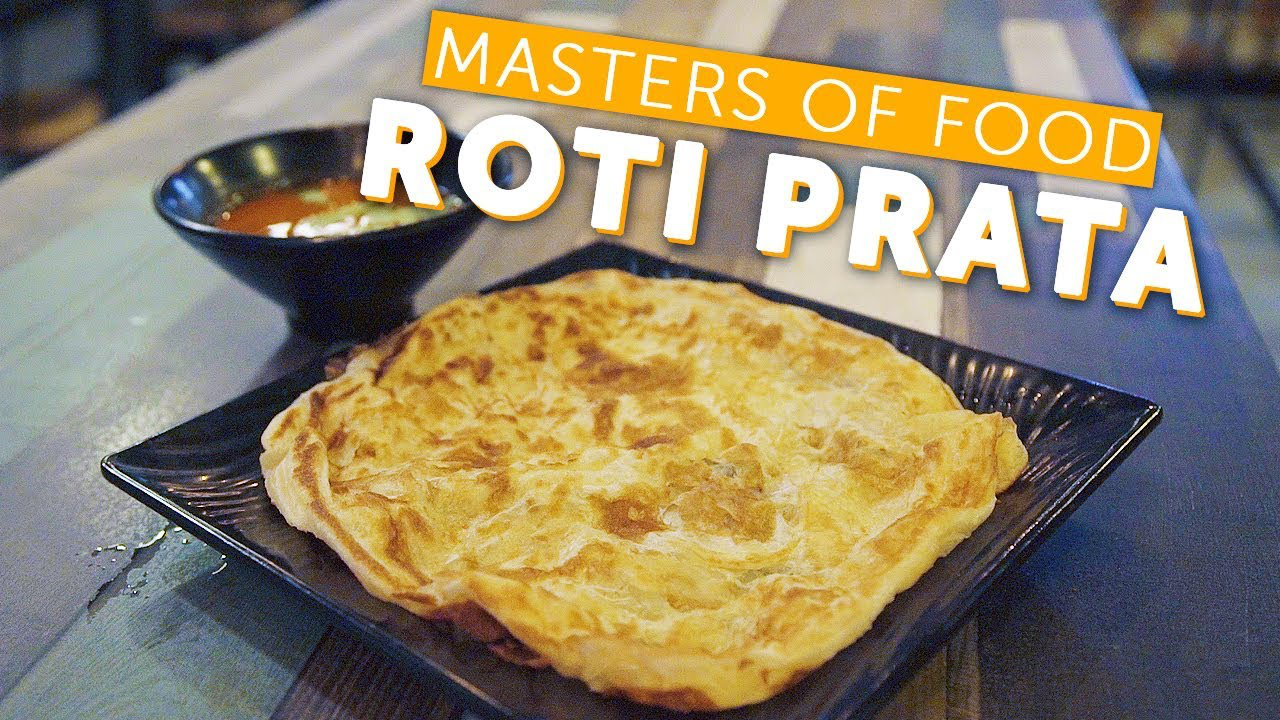Prata: (263, 282, 1019, 700)
